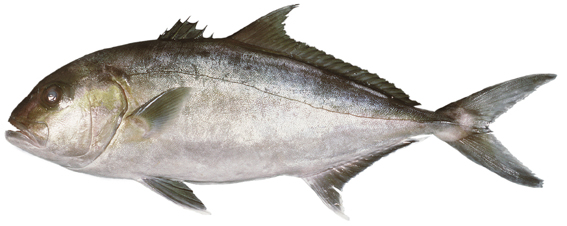fish: (5, 3, 558, 222)
